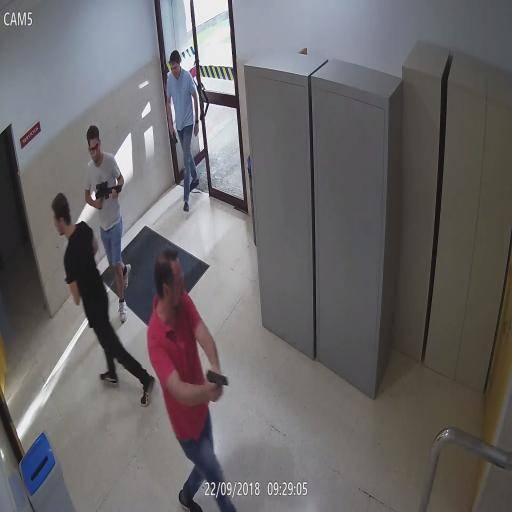Handgun: (205, 367, 230, 407)
